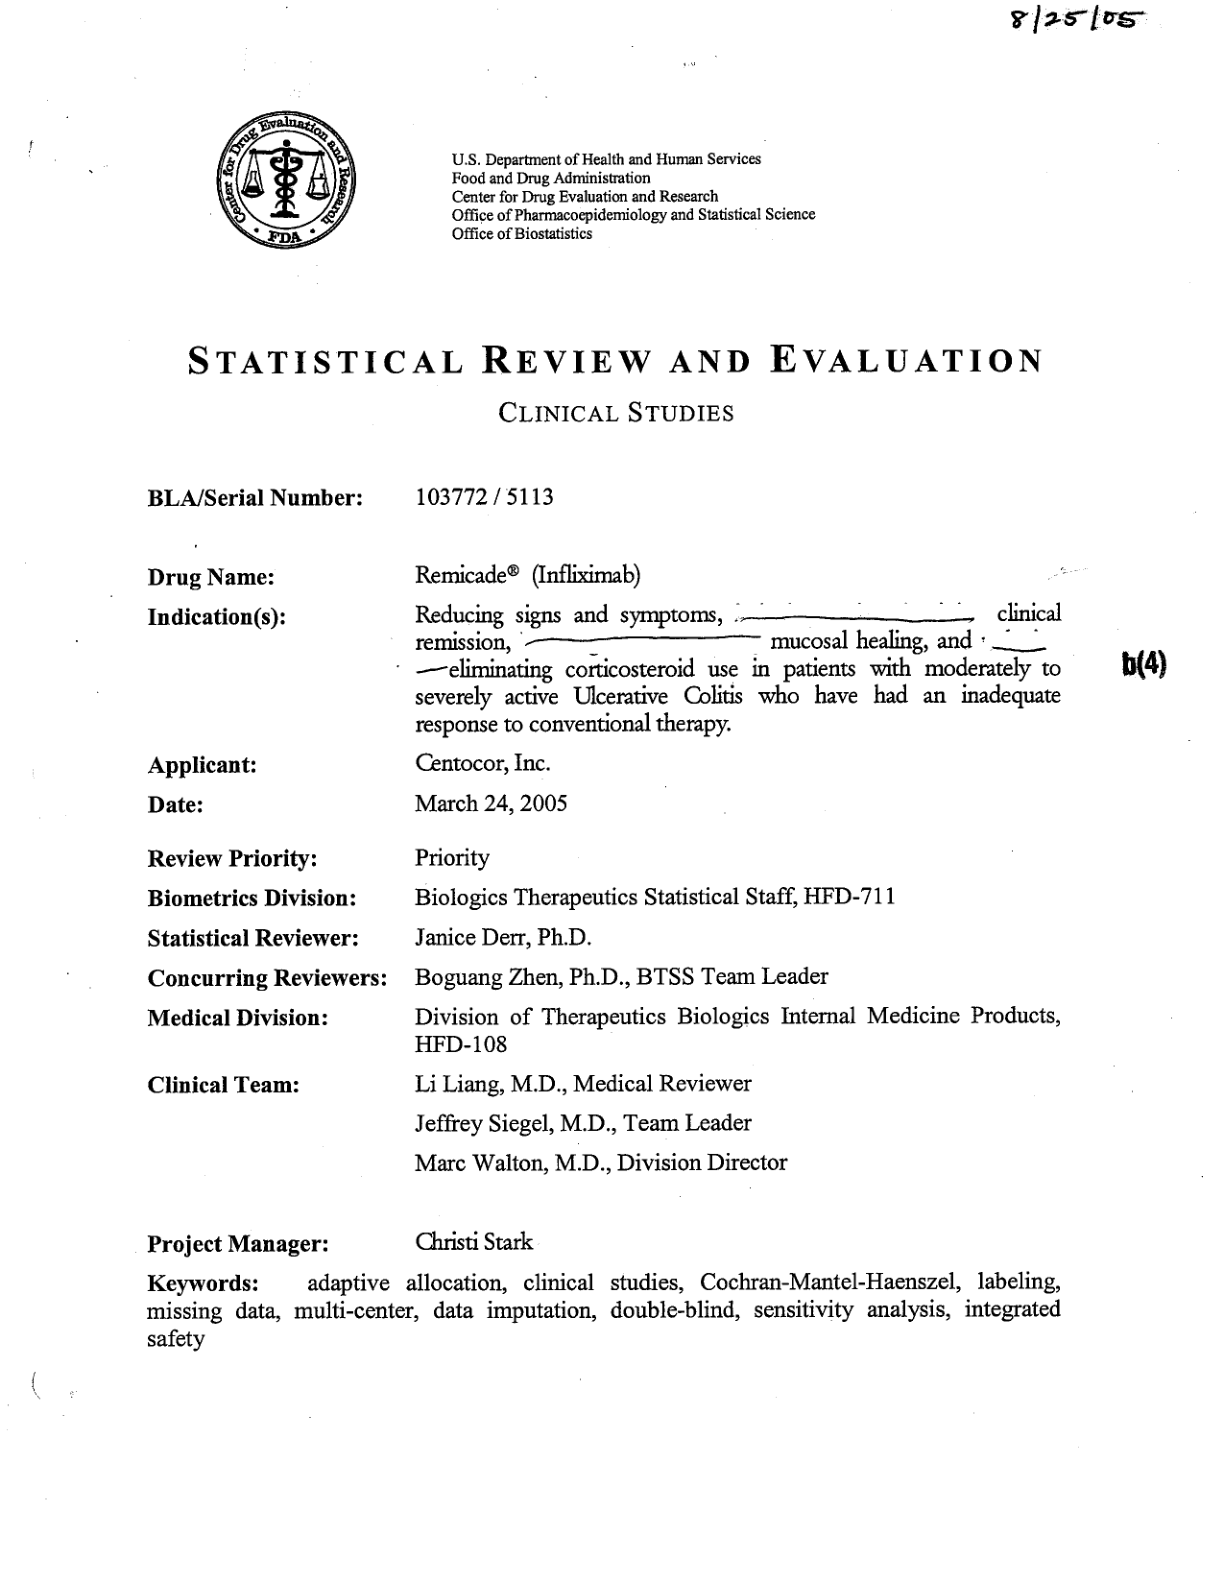nolines: (143, 482, 1066, 1258)
